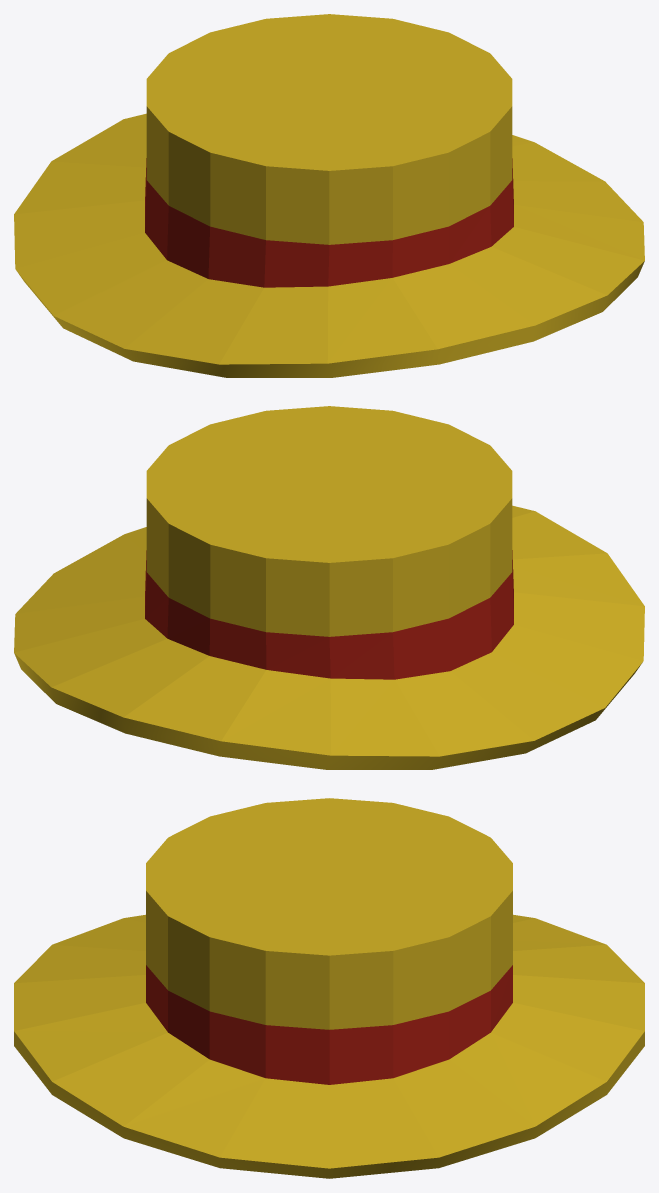
Rendered from Sunhat prefab.fbx.
3 renders of one model, top to bottom at view 1: azimuth 30°, elevation 25°; view 2: azimuth 150°, elevation 25°; view 3: azimuth 270°, elevation 25°, orthographic.
Visible parts, largest first — view 1: Cylinder001; view 2: Cylinder001; view 3: Cylinder001.
Boxes of the visible parts, x1,y1,x2,y2 form: Cylinder001: (14, 14, 644, 377); Cylinder001: (14, 406, 644, 769); Cylinder001: (14, 798, 644, 1178).
Bounding box in the file's own units: 199 × 59.07 × 197.
